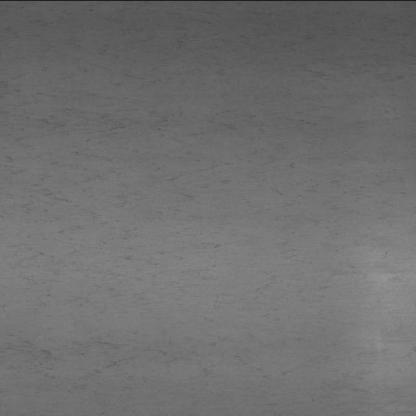silk_spot: (41, 35, 362, 328)
